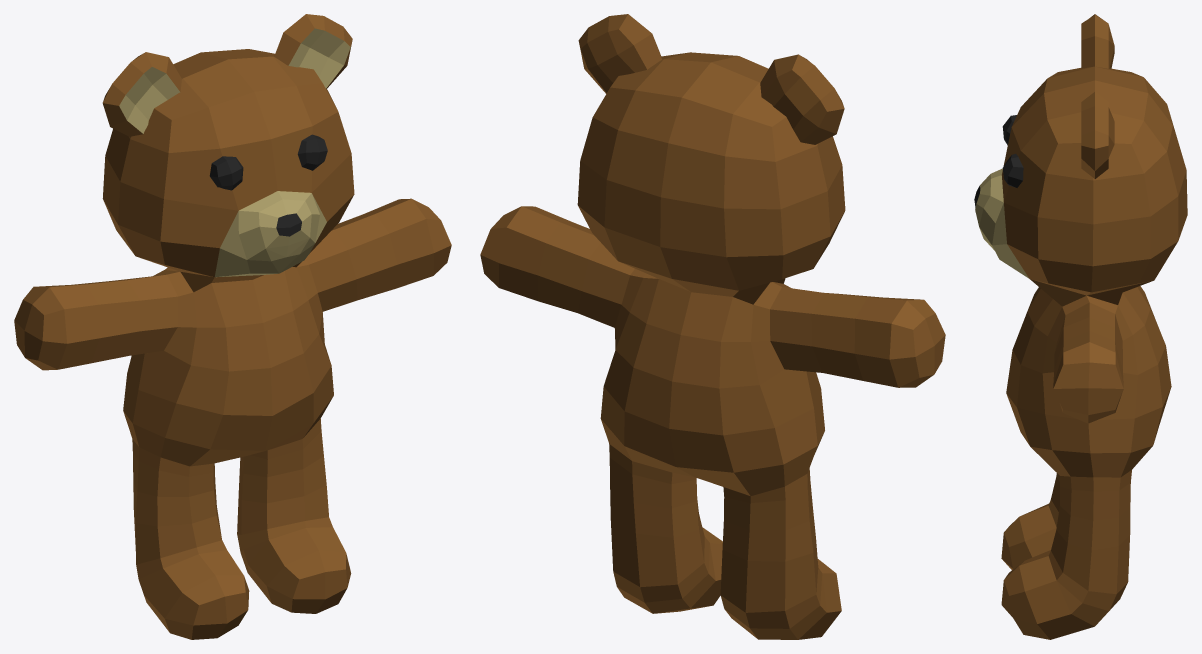
File: Env_TeddyBear_01a.fbx
The picture shows the model from 3 angles, left to right: view 1: azimuth 30°, elevation 25°; view 2: azimuth 150°, elevation 25°; view 3: azimuth 270°, elevation 25°; orthographic projection. The views are drawn at different scales.
Visible parts, largest first — view 1: Teddy Bear; view 2: Teddy Bear; view 3: Teddy Bear.
Part boxes in pixels (bbox=[...]): Teddy Bear: bbox=[14, 14, 451, 639]; Teddy Bear: bbox=[480, 14, 945, 639]; Teddy Bear: bbox=[974, 14, 1187, 639].
Size of the model in its own units: 166 by 219 by 76.45.
